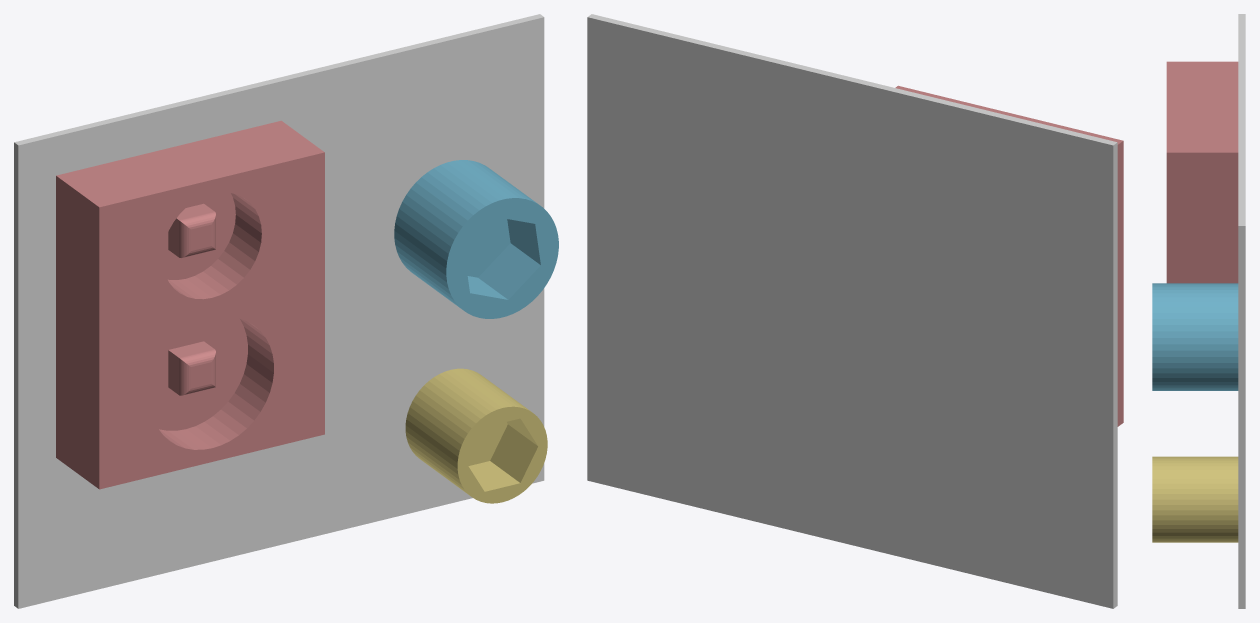
File: pickup_layout.glb
3 views of the same model, side by side, from view 1: azimuth 30°, elevation 25°; view 2: azimuth 150°, elevation 25°; view 3: azimuth 270°, elevation 25° (orthographic). The views are drawn at different scales.
Parts seen in each view (by area): view 1: world, 0.obj, 2.obj, 1.obj; view 2: world, 0.obj; view 3: 0.obj, 2.obj, 1.obj, world.
Part boxes in pixels (x1,y1,x2,y2): world: (14,14,544,608); 0.obj: (56,120,324,489); 2.obj: (394,160,558,318); 1.obj: (405,368,547,503); world: (587,14,1117,608); 0.obj: (895,85,1123,426); 0.obj: (1166,61,1238,283); 2.obj: (1152,283,1238,390); 1.obj: (1152,456,1238,542); world: (1238,14,1245,608).
Size of the model in its own units: 14 by 11.79 by 2.6.
